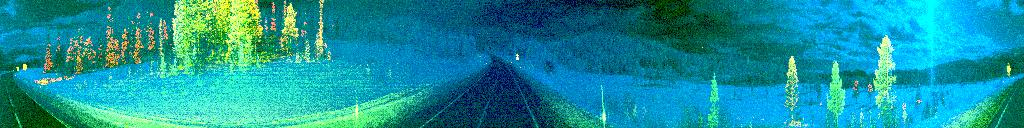pole: (597, 81, 608, 128), (352, 88, 363, 128)
